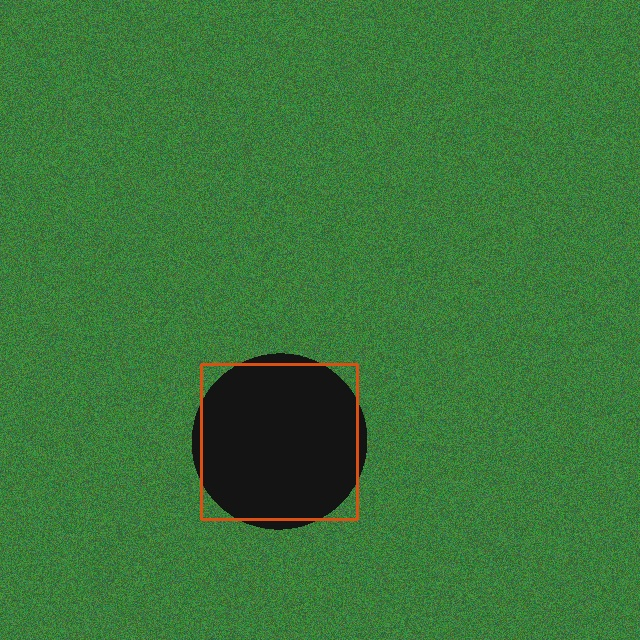blister beetle: (191, 354, 367, 529)
